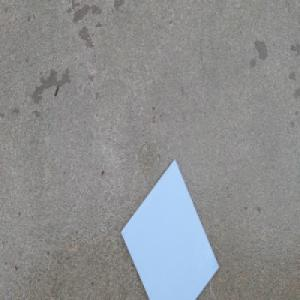PaintChip: (118, 157, 219, 300)
